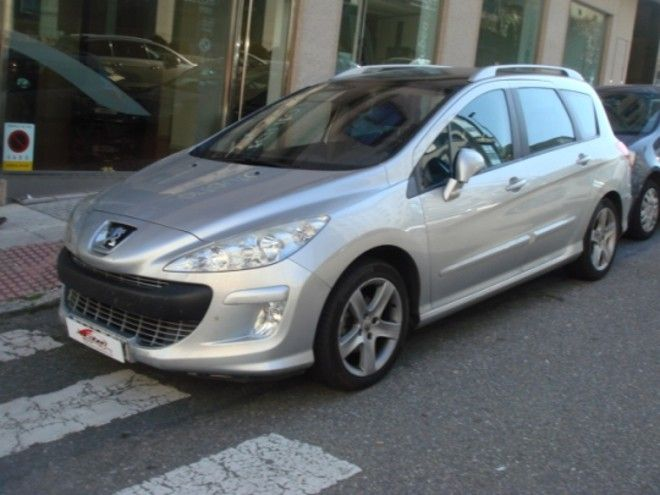car: (20, 59, 630, 412)
